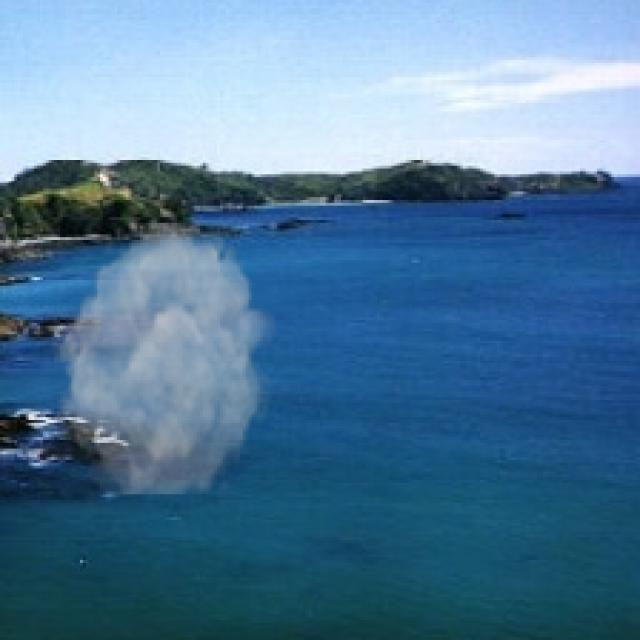Smoke: (49, 222, 278, 494)
